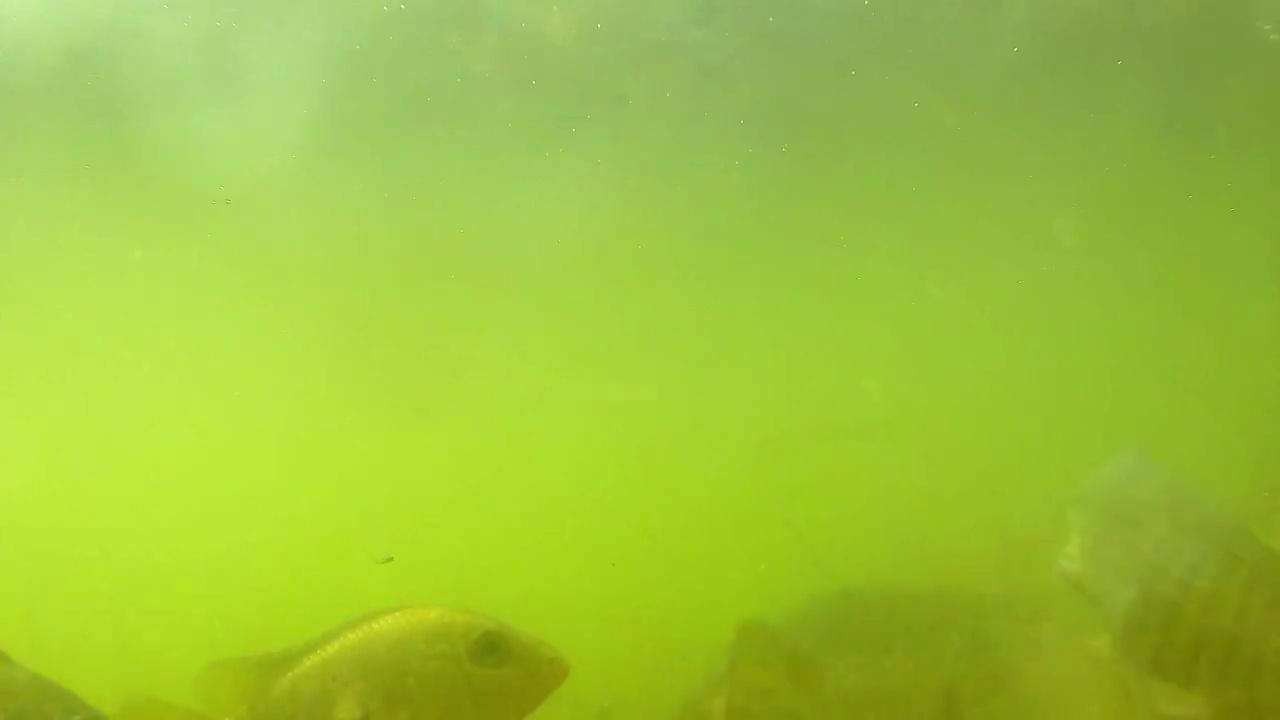Tilapia: (195, 600, 570, 720)
